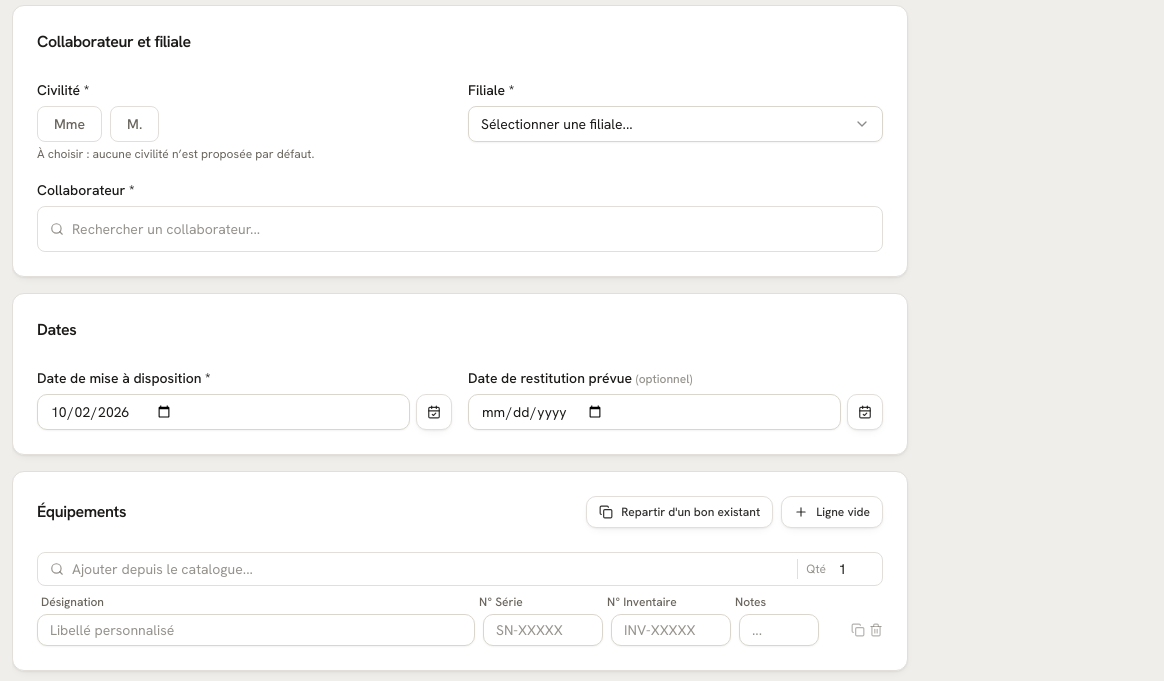
Test case: BonCreatePage — formulaire envoyé vide : toutes les erreurs à la fois › liste chaque erreur dans le récapitulatif et marque chaque champ fautif à son endroit
Step 1. Clear the date field labelled "Date de mise à disposition *" → (224, 412), box [37,394,410,430]
(page scrolled)
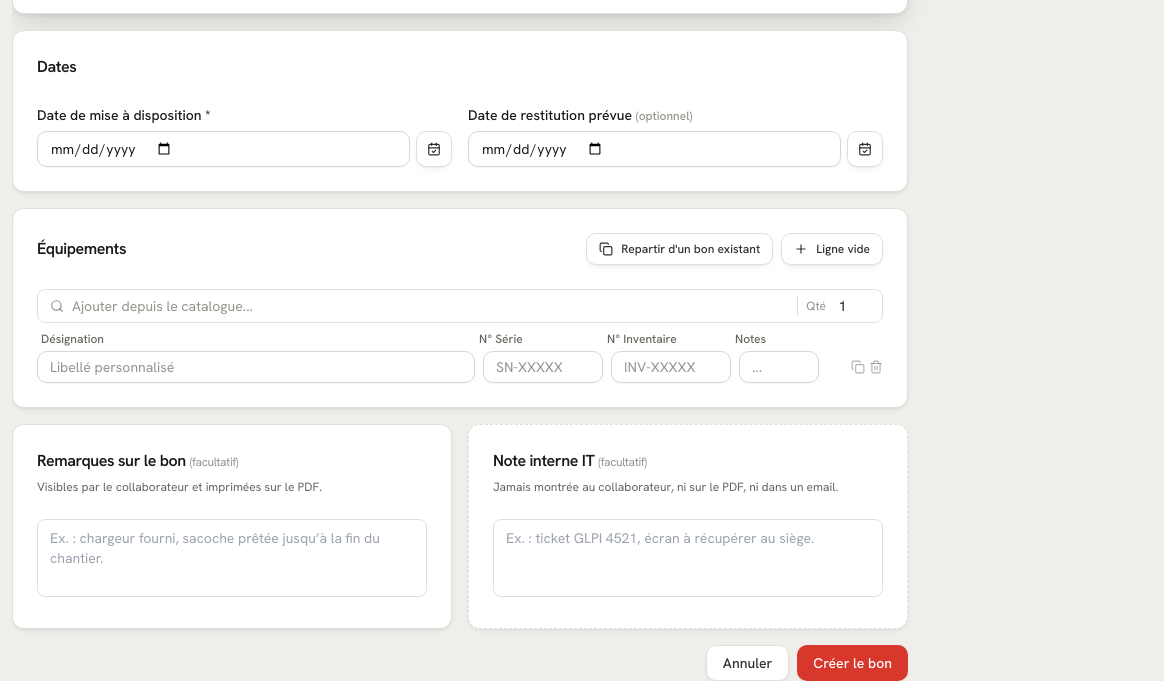
Step 2. Click the button "Créer le bon" → (853, 663), box [797,645,908,680]
(page scrolled)
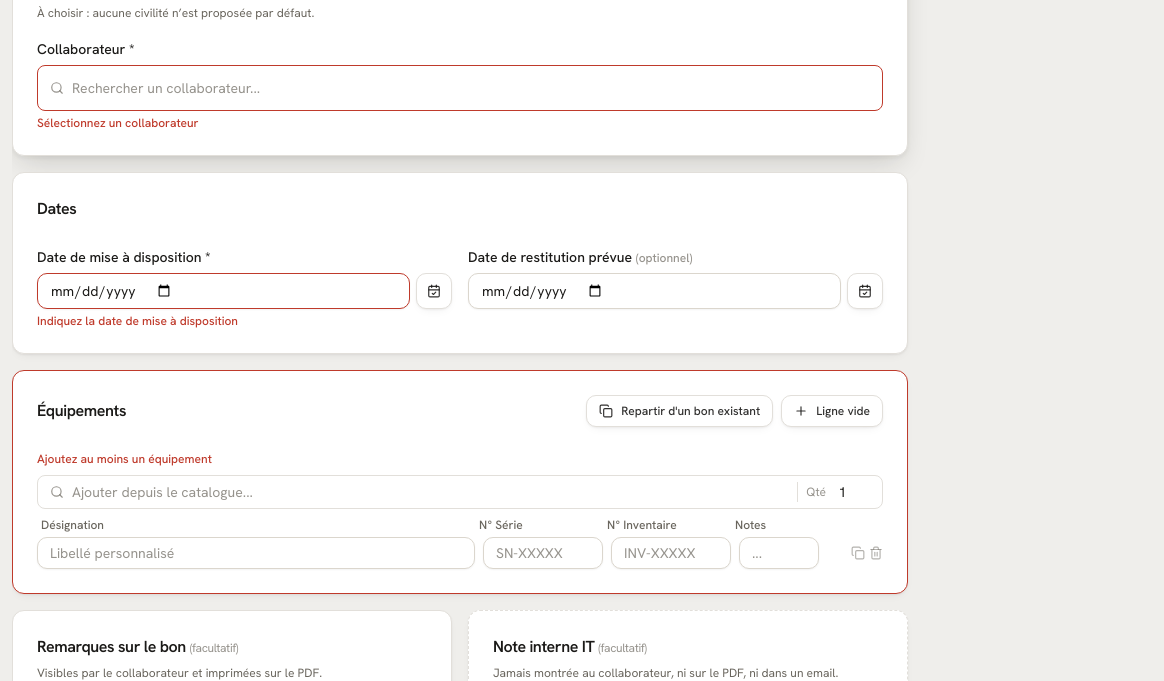
Result: the text "Indiquez la date de mise à disposition" is shown at [37,313,238,329]
